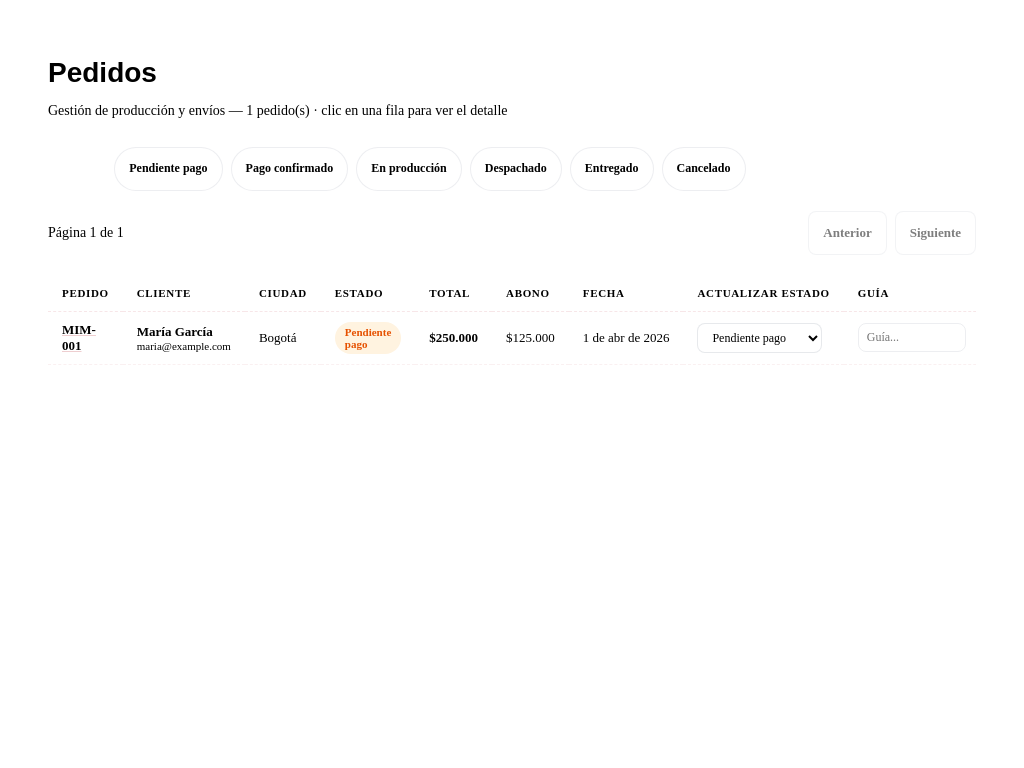
Scenario: PedidosAdminPage › renders an audio player with the uploaded audio URL in the detail modal
The image size is (1024, 768).
Expected: the row with test id "order-row-MIM-001" is shown, [48,311,976,364]
Click the row with test id "order-row-MIM-001" at [532, 338], box [48,311,1016,364]
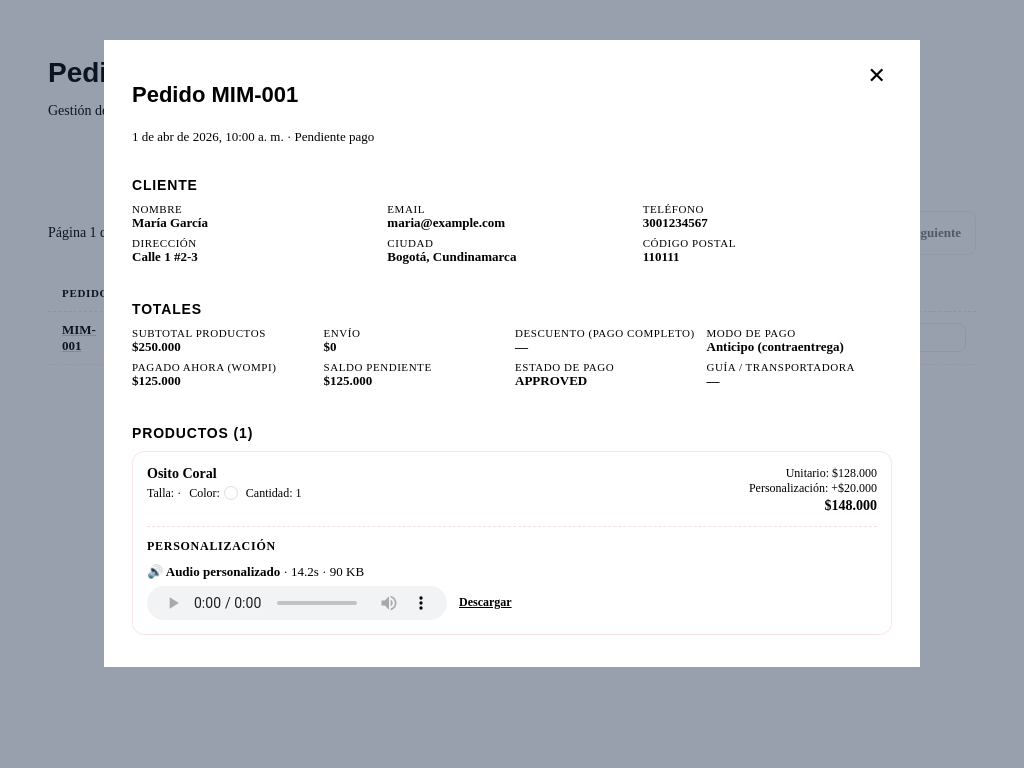
Expected: the element with test id "item-audio" is shown, [147,564,512,609]
